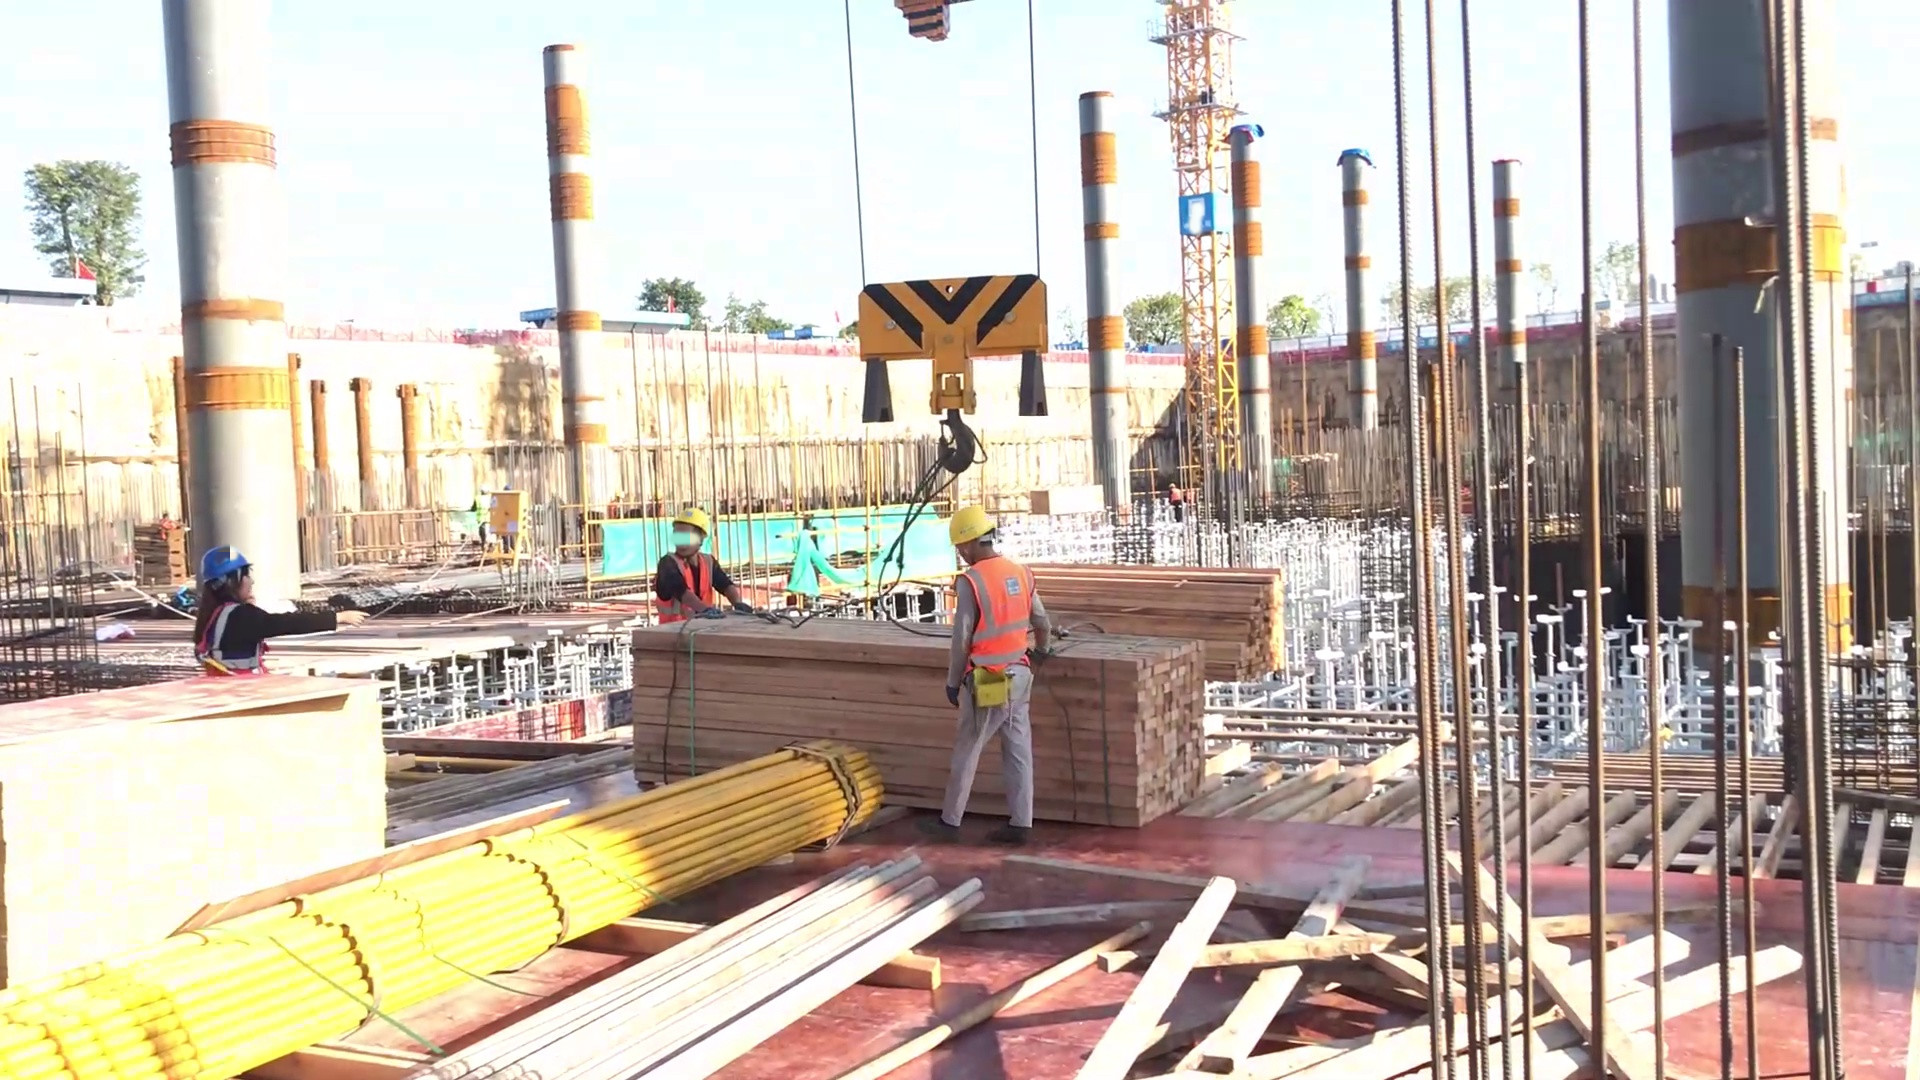board: (1, 633, 420, 976)
helmet: (943, 495, 1011, 546), (662, 495, 727, 542), (192, 543, 255, 584)
hook: (848, 273, 1056, 426)
person: (928, 511, 1052, 829), (636, 499, 763, 633), (186, 547, 282, 683)
rebar: (419, 831, 1021, 1080)
vest: (959, 561, 1043, 664), (958, 566, 1035, 676), (183, 596, 271, 677), (661, 550, 725, 622), (661, 554, 720, 620)
wood: (625, 593, 1229, 838), (944, 539, 1313, 697)
